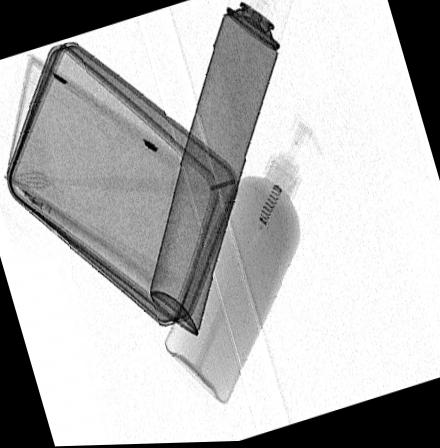Sprayer: (149, 0, 291, 337)
